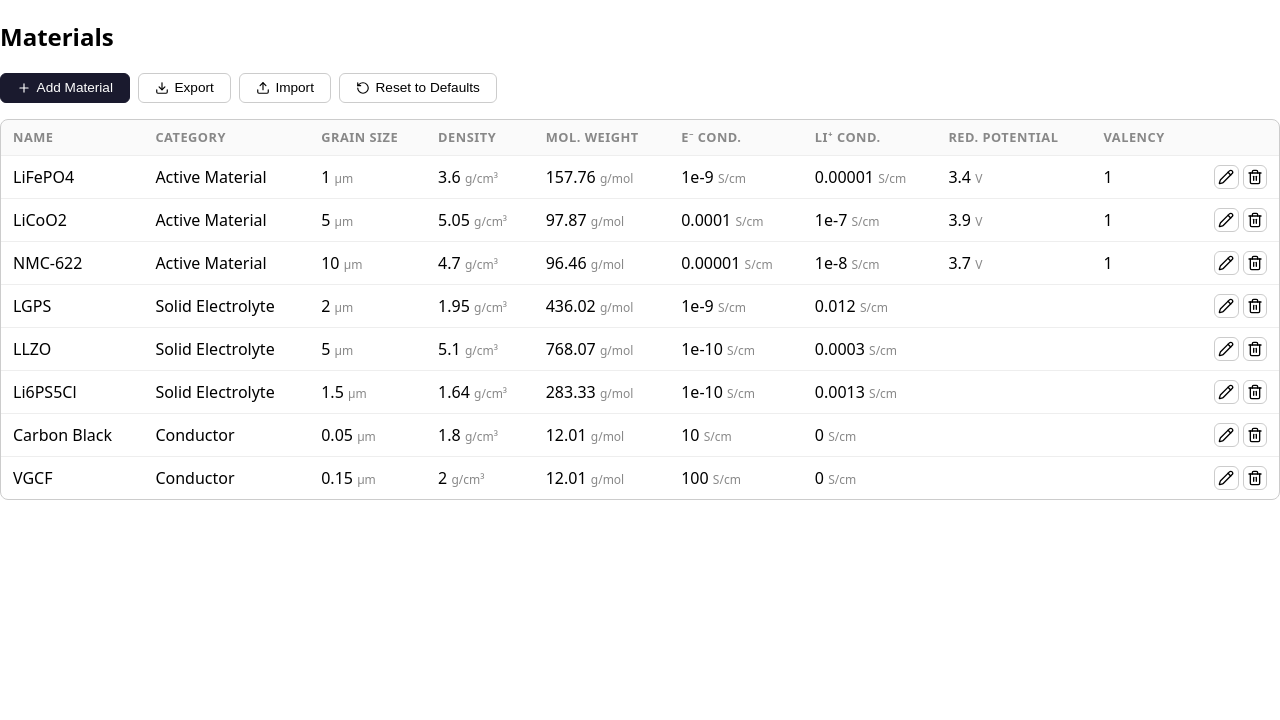
Test case: MaterialsView › opens material form in a modal when Add Material is clicked
Click the button "Add Material" at coordinates (65, 88), box [0,73,130,103]
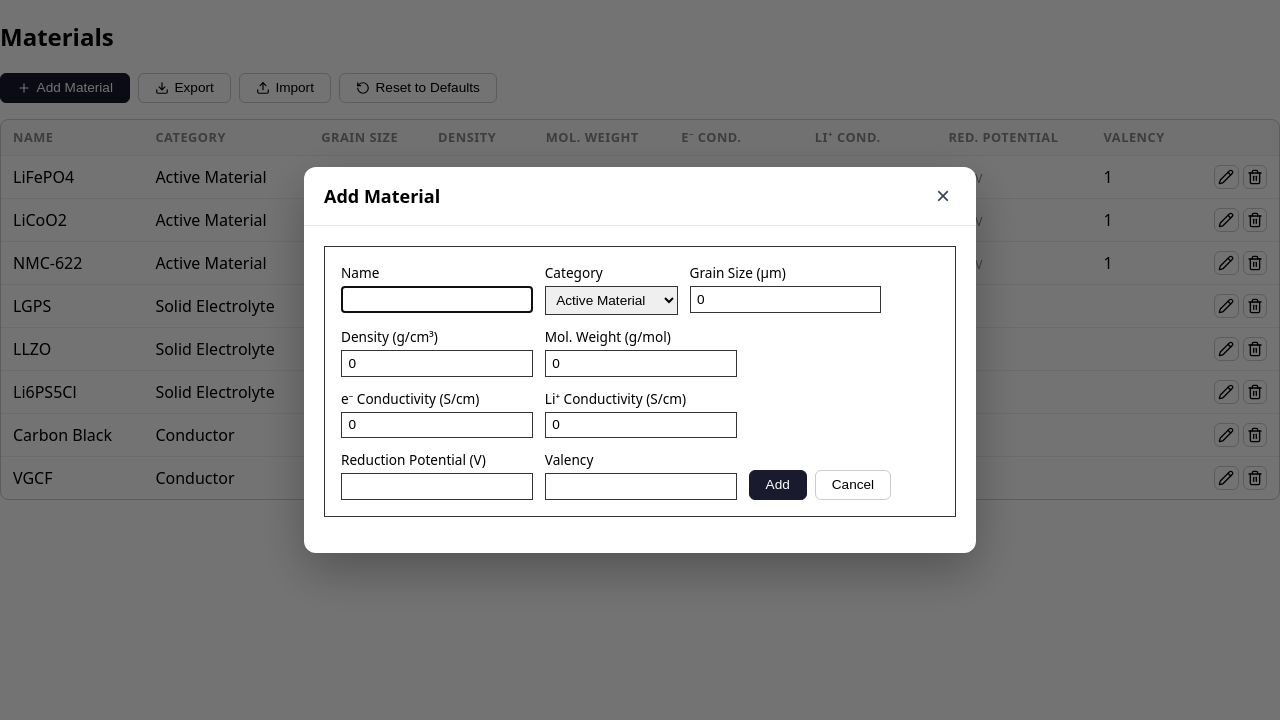
Check: the dialog "Add Material" is shown, box [304,167,976,553]
Check: the field labelled "Name" is shown, box [341,286,533,313]
